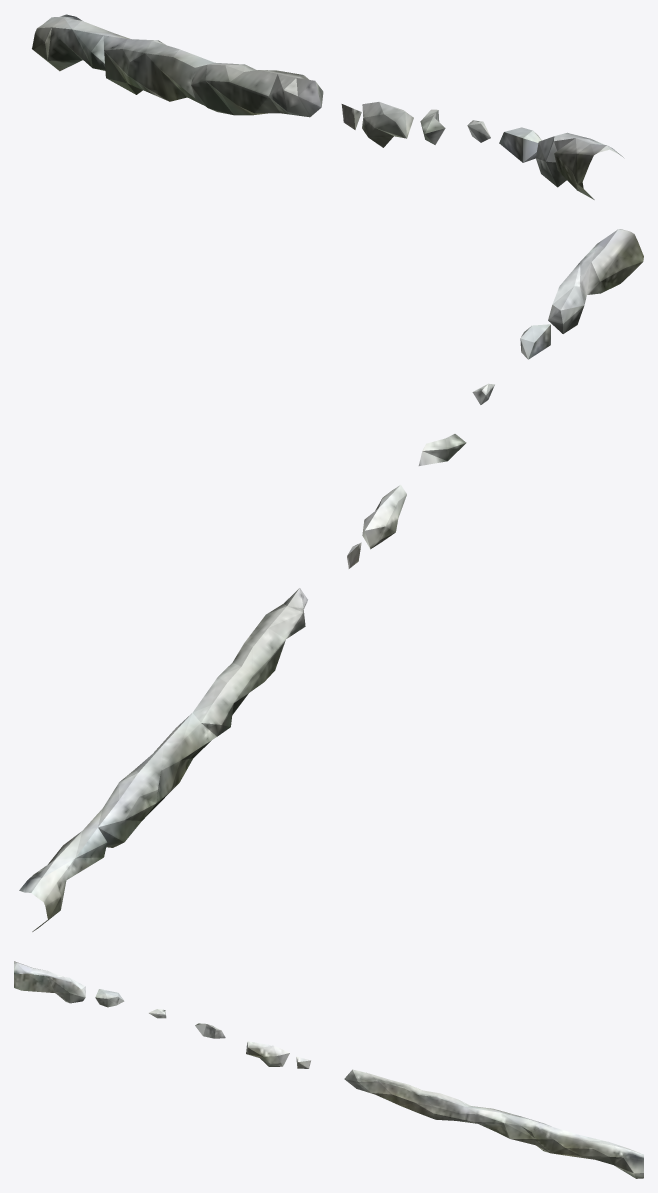
3 renders of one model, top to bottom at view 1: azimuth 30°, elevation 25°; view 2: azimuth 150°, elevation 25°; view 3: azimuth 270°, elevation 25°, orthographic. The views are drawn at different scales.
Bounding box in the file's own units: 0.3329 × 1.03 × 2.95.
Materials: 1 (1 with a texture image).
